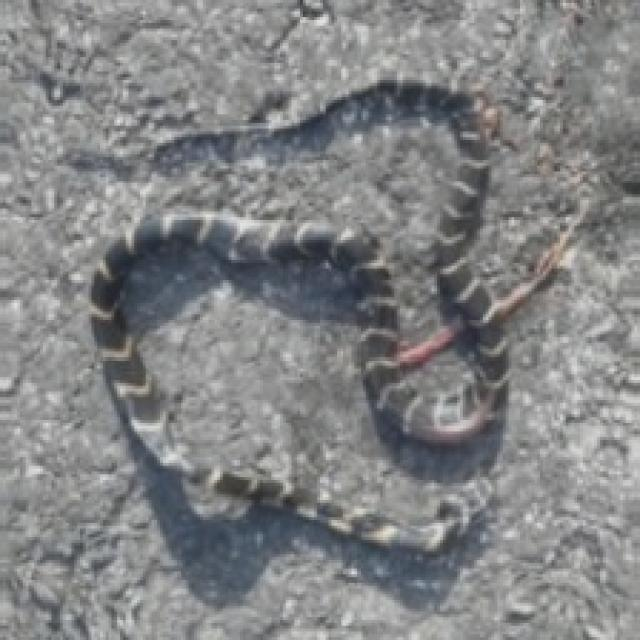king cobra: (91, 83, 580, 551), (137, 280, 380, 449)
